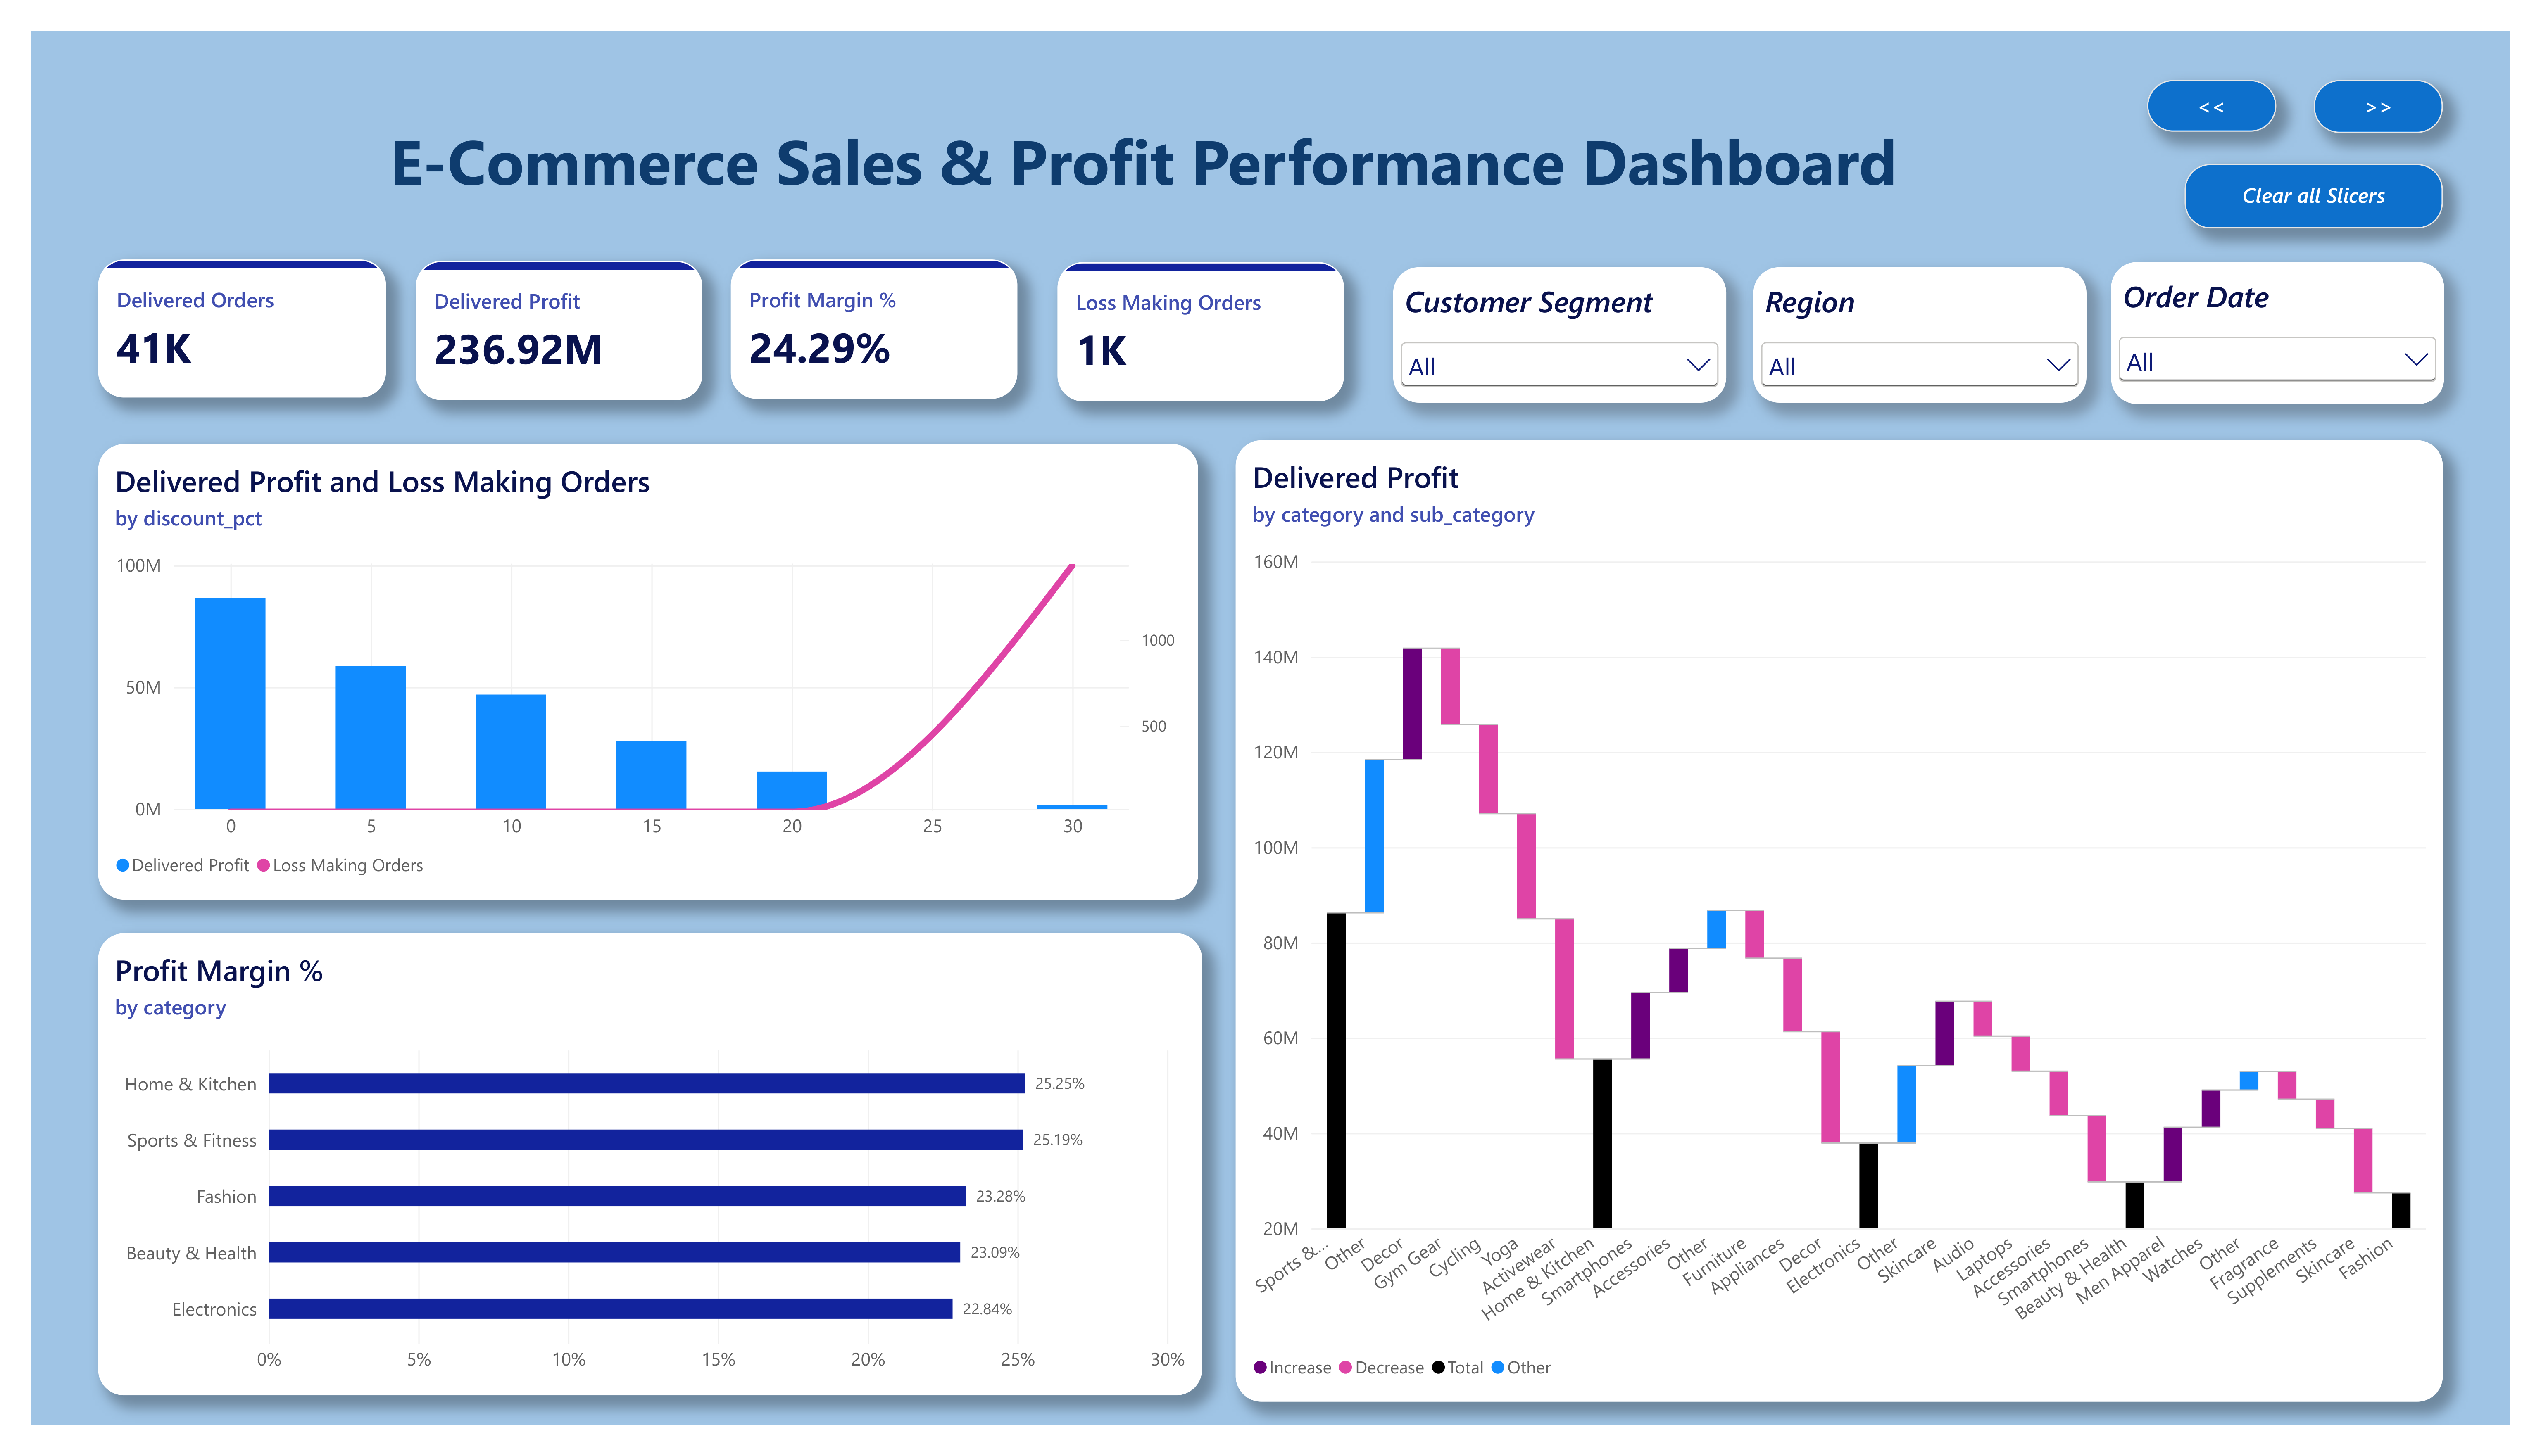

What the dashboard file says about the page in this screenshot:
{"tool":"powerbi","page":{"name":"Discount & Pricing Analysis","canvas":[1920,1080],"ordinal":1},"visuals":[{"type":"cardVisual","fields":{"Data":["clean_orders.Delivered Orders"]},"box":[52.5,176.6,222.7,107.8],"z":0},{"type":"cardVisual","fields":{"Data":["clean_orders.Loss Making Orders"]},"box":[794.8,179.1,222,107.8],"z":1000},{"type":"cardVisual","fields":{"Data":["clean_orders.Profit Margin %"]},"box":[541.6,176.7,222,107.8],"z":2000},{"type":"cardVisual","fields":{"Data":["clean_orders.Delivered Profit"]},"box":[297.7,178.2,222,107.8],"z":3000},{"type":"lineClusteredColumnComboChart","fields":{"Category":["clean_orders.discount_pct"],"Y":["clean_orders.Delivered Profit"],"Y2":["clean_orders.Loss Making Orders"]},"box":[52.5,319.7,851.8,353.1],"z":4000},{"type":"clusteredBarChart","fields":{"Category":["clean_products.category"],"Y":["clean_orders.Profit Margin %"]},"box":[52.5,699.1,854.2,357.9],"z":5000},{"type":"waterfallChart","fields":{"Breakdown":["clean_products.sub_category"],"Category":["clean_products.category"],"Y":["clean_orders.Delivered Profit"]},"box":[932.9,317.3,935.3,744.4],"z":6000},{"type":"textbox","box":[260.1,66.8,1202.5,69.2],"z":7000},{"type":"actionButton","box":[1768,38.2,100.2,40.6],"z":8000},{"type":"actionButton","box":[1667.8,102.6,200,50],"z":9000},{"type":"actionButton","box":[1639.1,38.2,100,40],"z":10000},{"type":"slicer","fields":{"Values":["clean_customers.customer_segment"]},"box":[1055,182.9,257.9,105.5],"z":11000},{"type":"slicer","fields":{"Values":["clean_customers.region"]},"box":[1334,182.9,257.9,105.5],"z":12000},{"type":"slicer","fields":{"Values":["clean_orders.order_date"]},"box":[1610.7,179.1,257.9,110.2],"z":13000}]}

Visuals, with their boxes on the page's 1920x1080 design canvas (x1, y1, x2, y2). These are canvas units, not pixel positions in the 2541x1456 screenshot, which may show the page scaled, cropped or inside an application window:
cardVisual - clean_orders.Delivered Orders: pyautogui.locateOnScreen(52, 177, 275, 284)
cardVisual - clean_orders.Loss Making Orders: pyautogui.locateOnScreen(795, 179, 1017, 287)
cardVisual - clean_orders.Profit Margin %: pyautogui.locateOnScreen(542, 177, 764, 284)
cardVisual - clean_orders.Delivered Profit: pyautogui.locateOnScreen(298, 178, 520, 286)
lineClusteredColumnComboChart - clean_orders.discount_pct x clean_orders.Delivered Profit: pyautogui.locateOnScreen(52, 320, 904, 673)
clusteredBarChart - clean_products.category x clean_orders.Profit Margin %: pyautogui.locateOnScreen(52, 699, 907, 1057)
waterfallChart - clean_products.sub_category x clean_products.category: pyautogui.locateOnScreen(933, 317, 1868, 1062)
textbox: pyautogui.locateOnScreen(260, 67, 1463, 136)
actionButton: pyautogui.locateOnScreen(1768, 38, 1868, 79)
actionButton: pyautogui.locateOnScreen(1668, 103, 1868, 153)
actionButton: pyautogui.locateOnScreen(1639, 38, 1739, 78)
slicer - clean_customers.customer_segment: pyautogui.locateOnScreen(1055, 183, 1313, 288)
slicer - clean_customers.region: pyautogui.locateOnScreen(1334, 183, 1592, 288)
slicer - clean_orders.order_date: pyautogui.locateOnScreen(1611, 179, 1869, 289)
